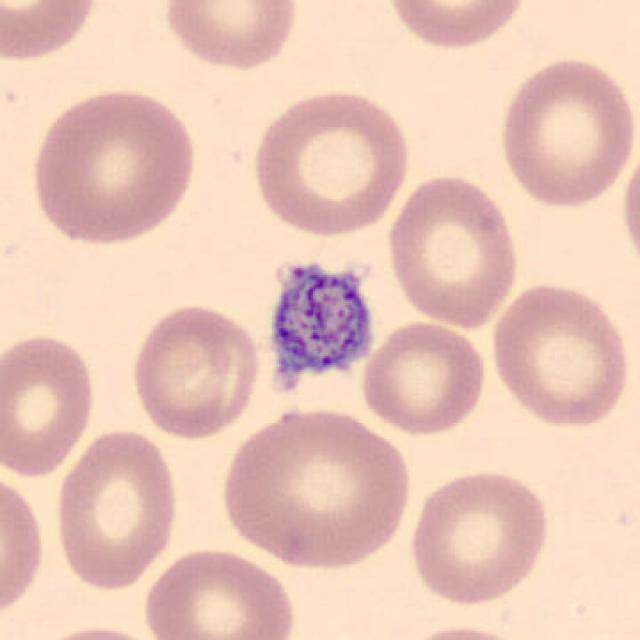Platelets: (258, 254, 380, 397)
RBC: (215, 404, 416, 573), (25, 84, 203, 248), (247, 84, 414, 240), (494, 51, 638, 212), (382, 170, 524, 332), (485, 277, 633, 432), (50, 425, 183, 594), (405, 464, 553, 608), (126, 300, 263, 442), (357, 317, 491, 439), (138, 543, 300, 640), (0, 328, 100, 481), (158, 0, 302, 74), (0, 466, 50, 628), (381, 0, 534, 51), (0, 0, 103, 65), (618, 137, 640, 275), (389, 620, 538, 640), (21, 622, 171, 640)
